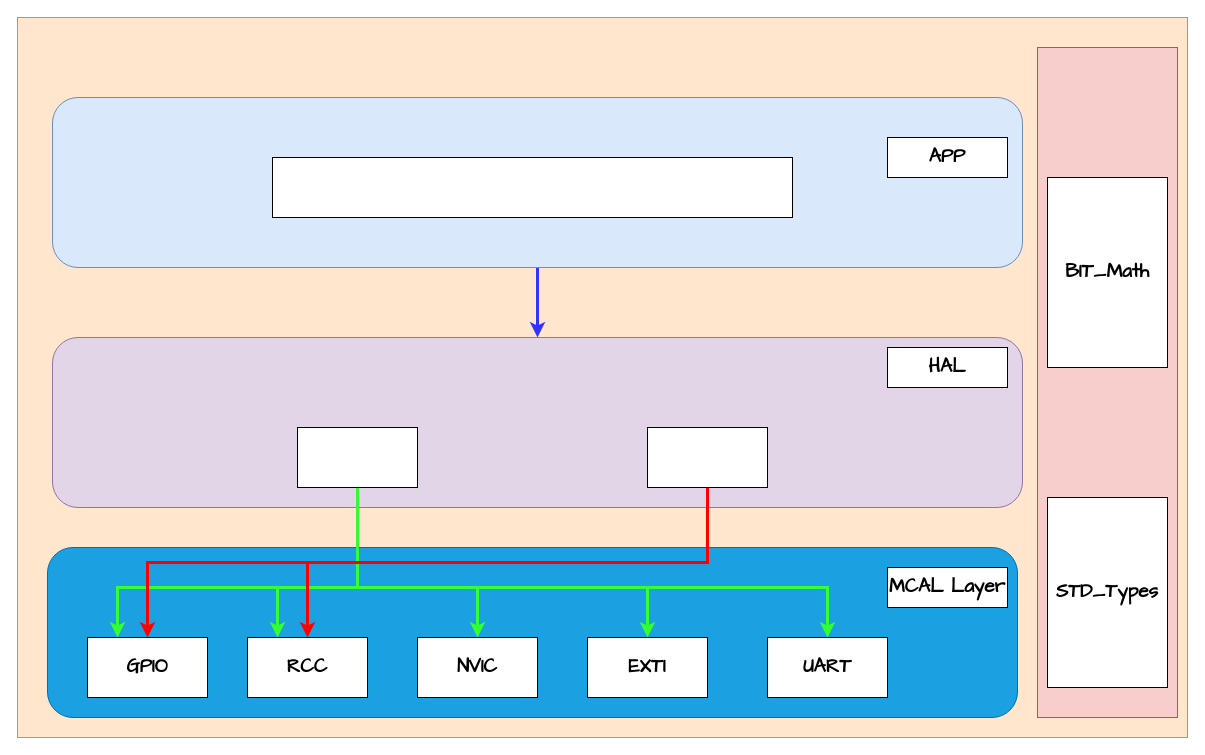
Some shapes in this 1205 by 755 pixel diagram are drawn without their labels. Each missing label, with the centre of its shape:
"BUTTON" goes at (x=357, y=457).
"Door Control" goes at (x=532, y=187).
"MOTOR" goes at (x=707, y=457).
